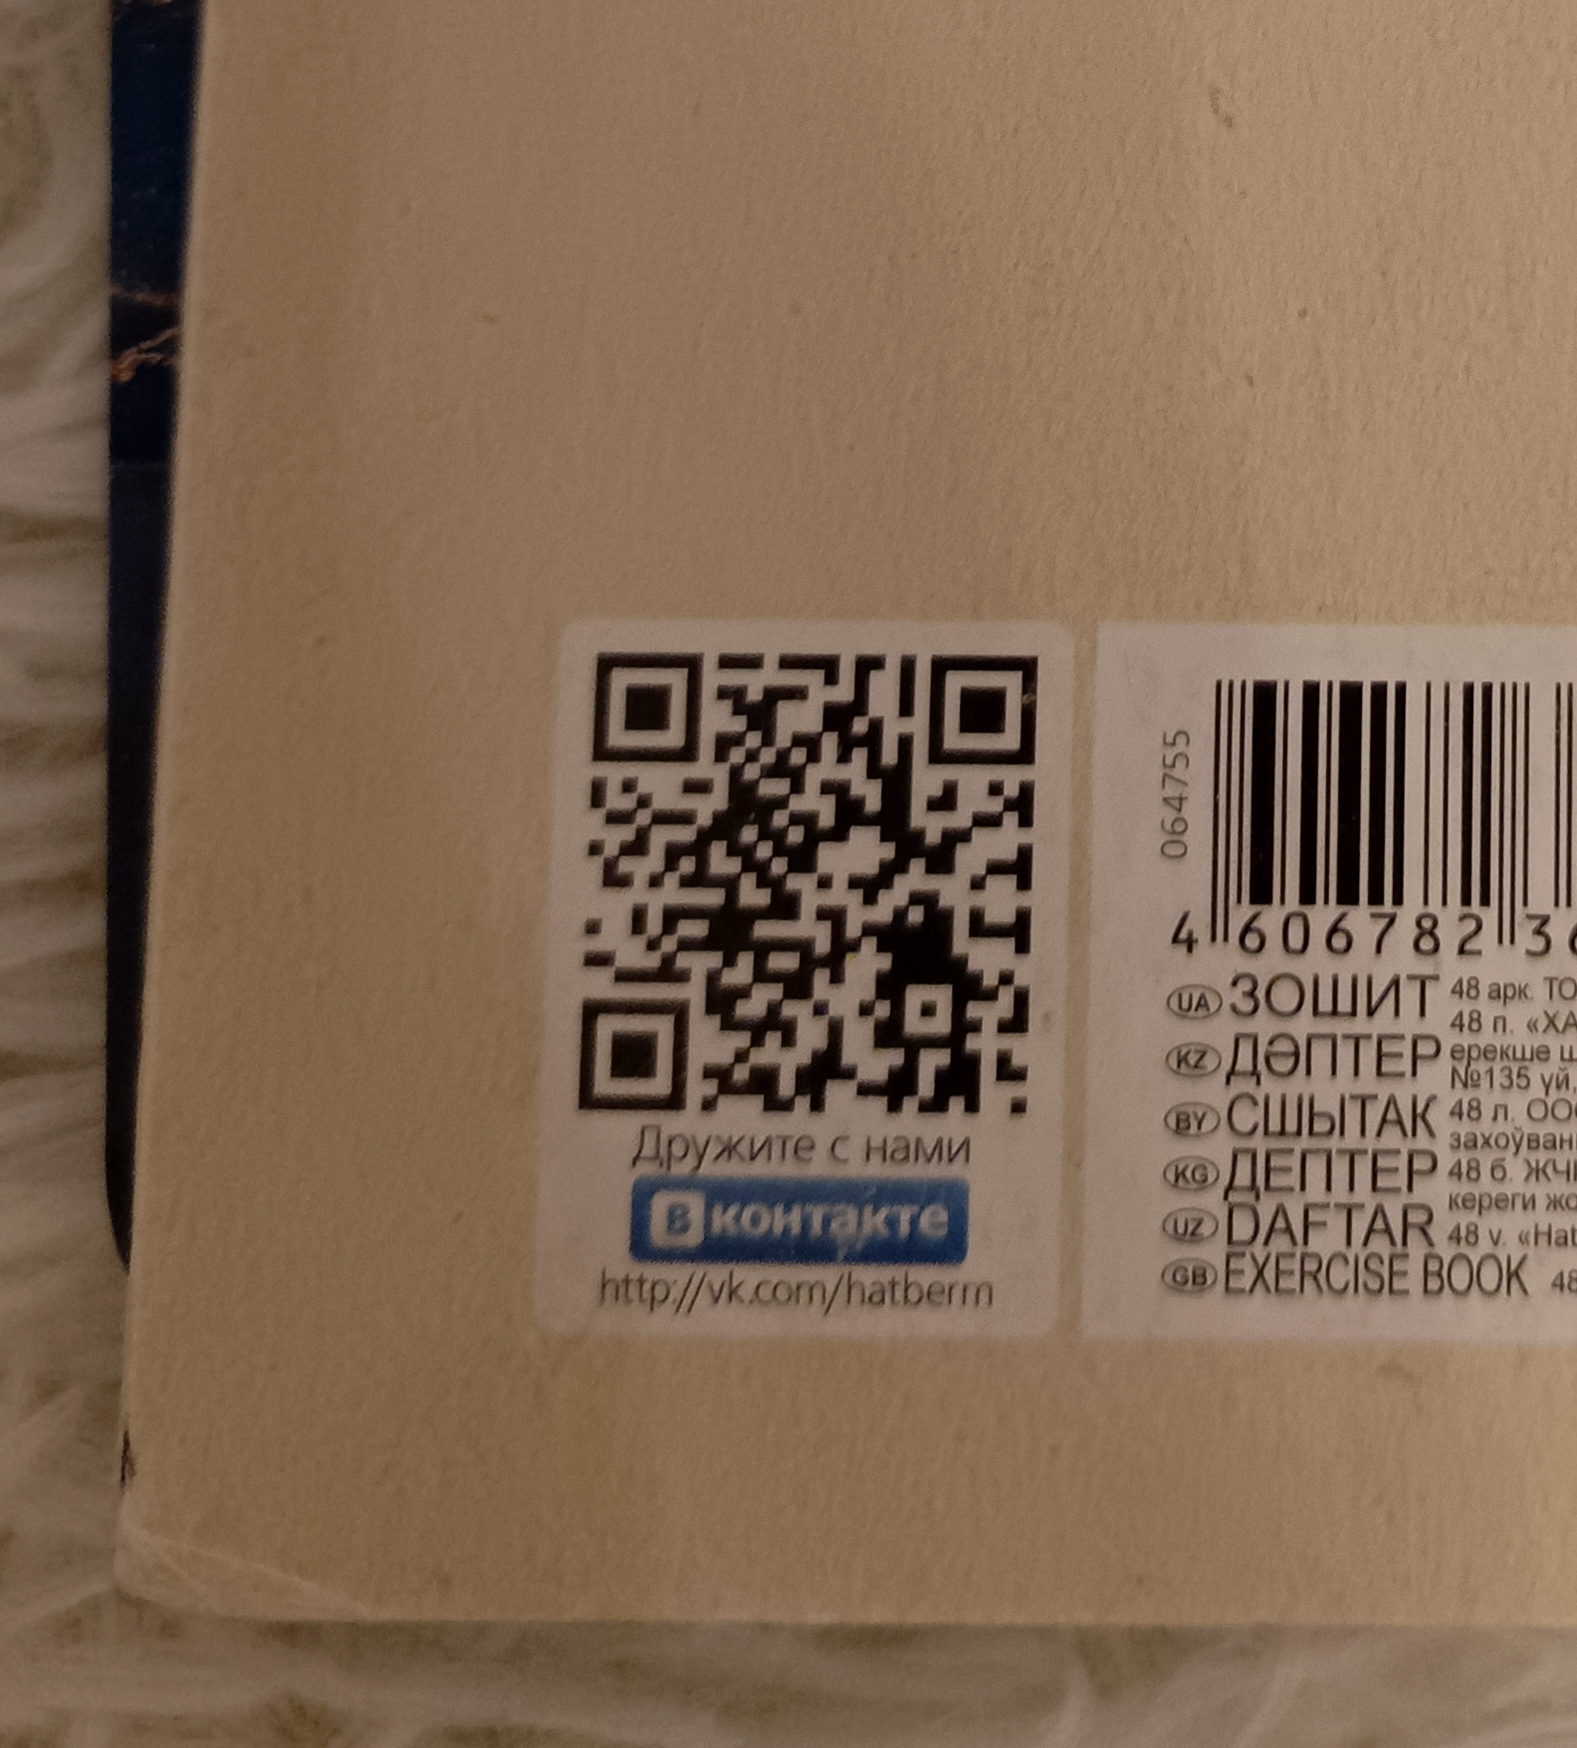2d: (571, 647, 1037, 1118)
